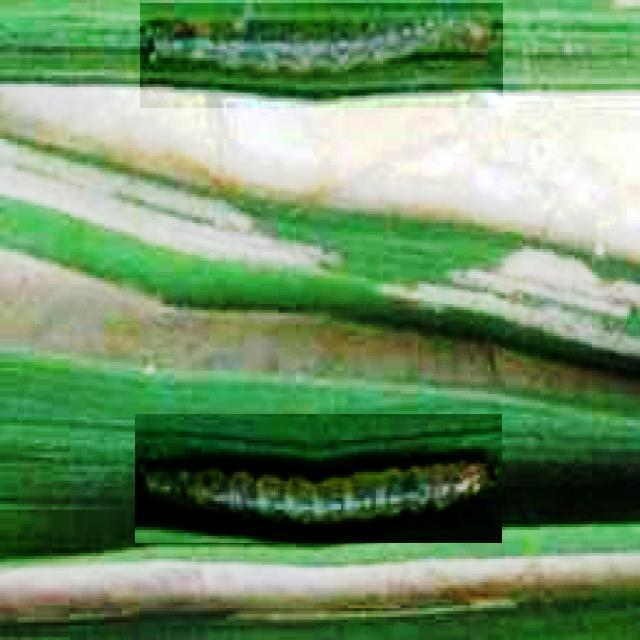leaf-folder: (135, 414, 502, 543), (140, 3, 503, 108)
